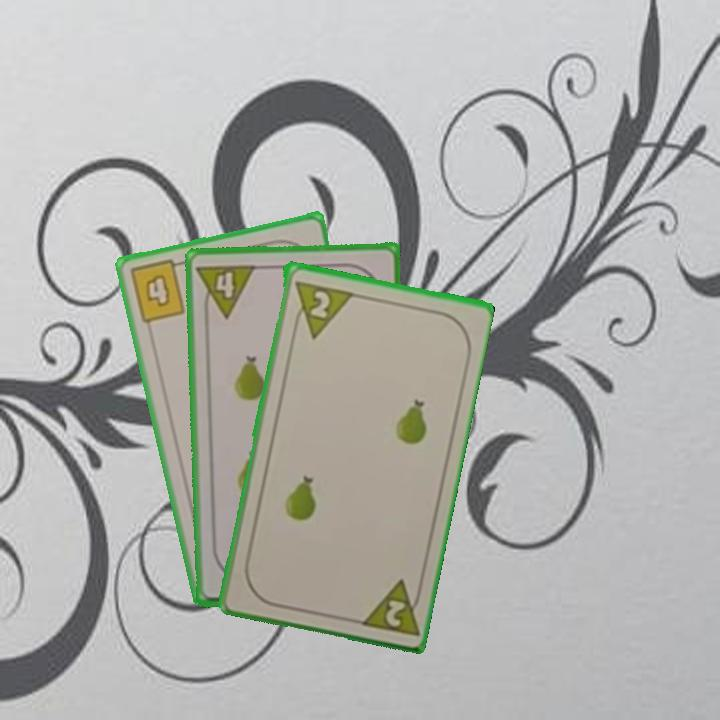2p: (354, 574, 425, 639), (305, 286, 333, 321)
4b: (125, 256, 189, 326)
4p: (193, 260, 258, 321)
